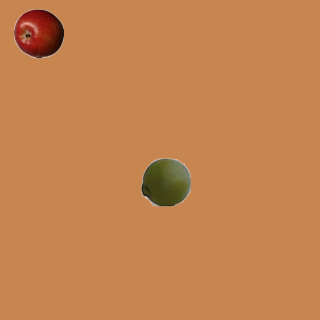Apple Braeburn: (13, 8, 63, 58)
Grape White 4: (140, 156, 190, 206)
